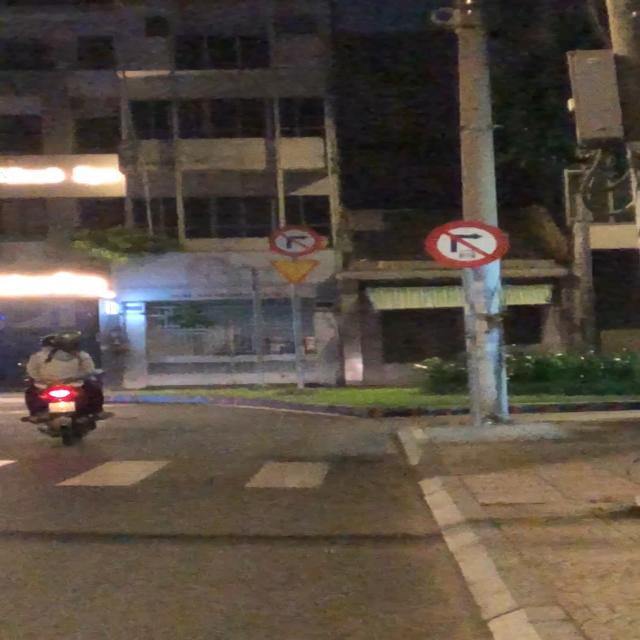Bien bao cam re phai: (267, 225, 325, 257)
Bien bao cam xe o to re phai: (423, 217, 513, 268)
Bien bao giao nhau voi duong uu tien: (265, 257, 323, 287)
